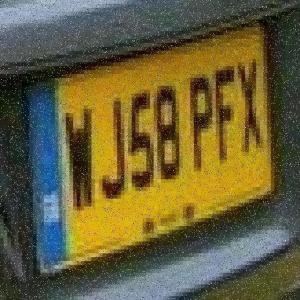Plate: (24, 24, 282, 287)
